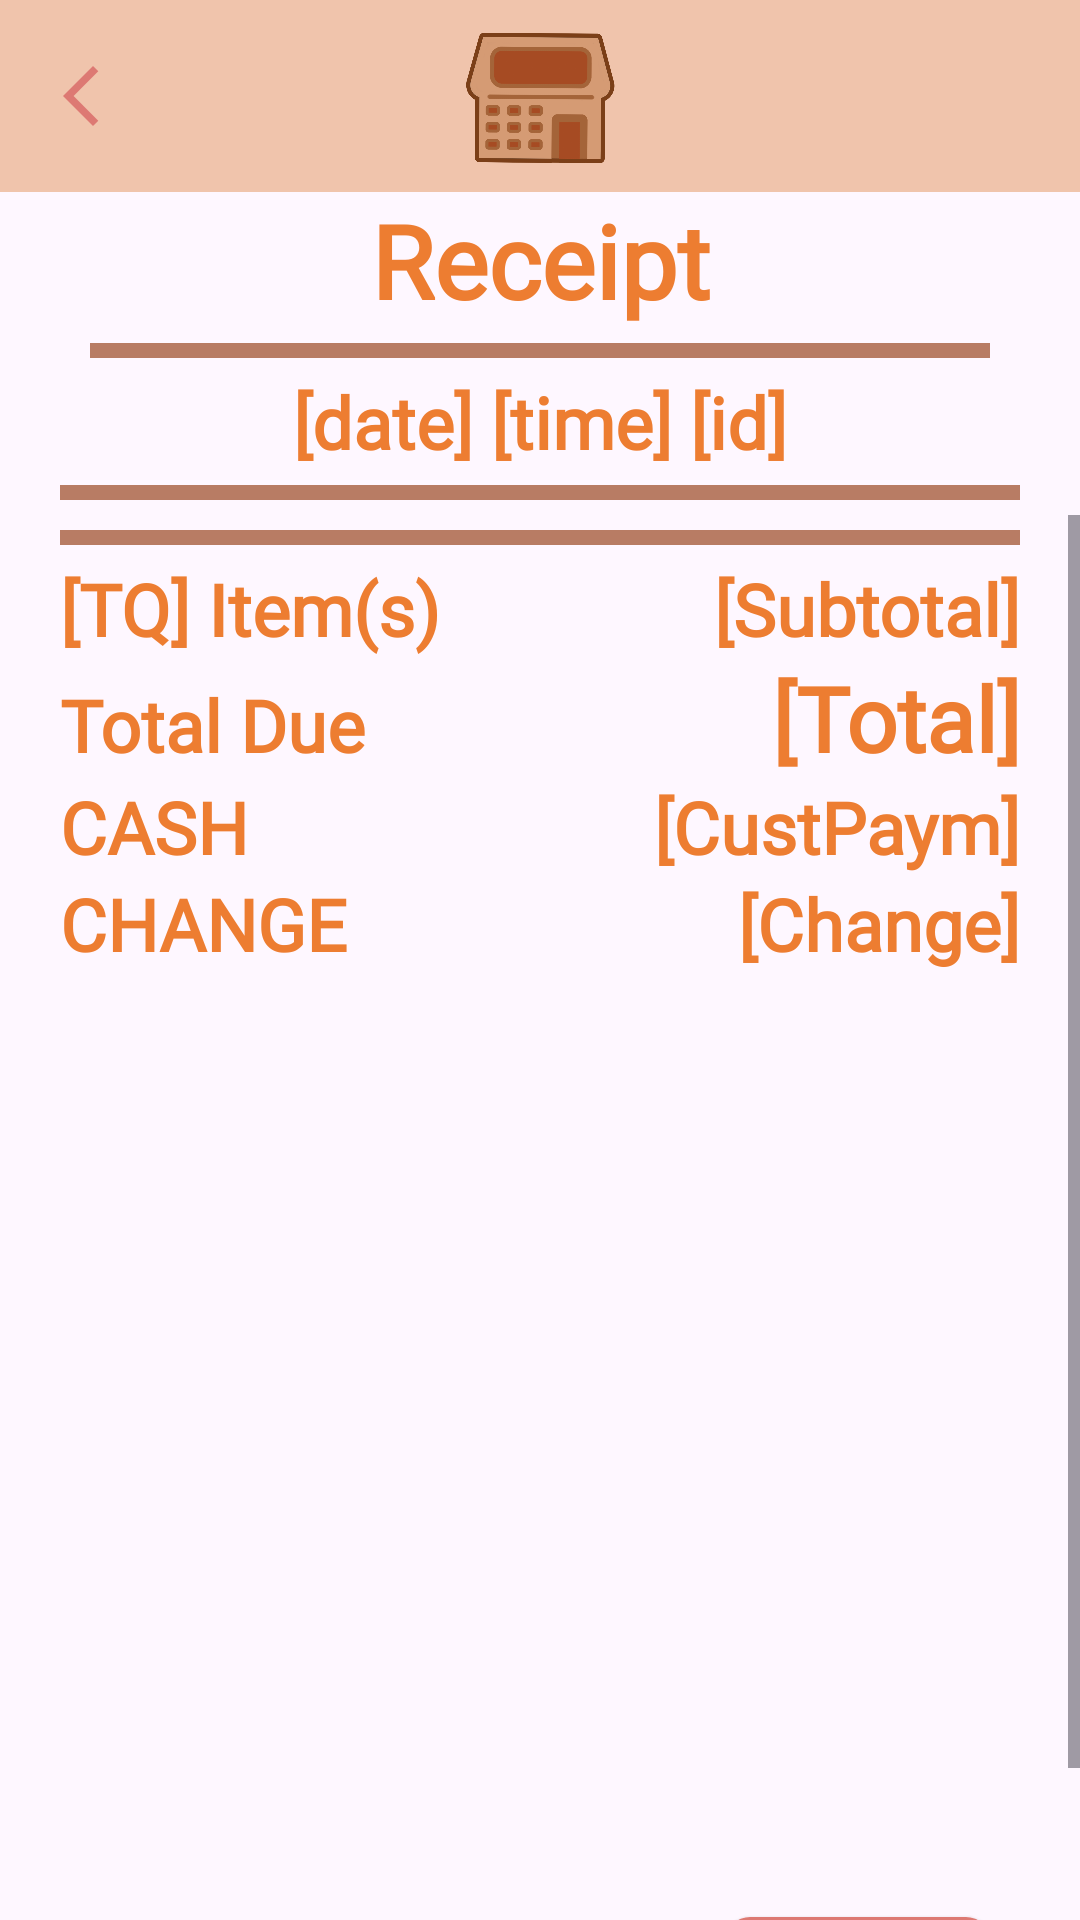

Screen size 1080 x 1920. Icon name, then its box in pixels as [left=x1, top=y1, right=x2, bottom=y2]:
back: [left=63, top=66, right=98, bottom=126]
